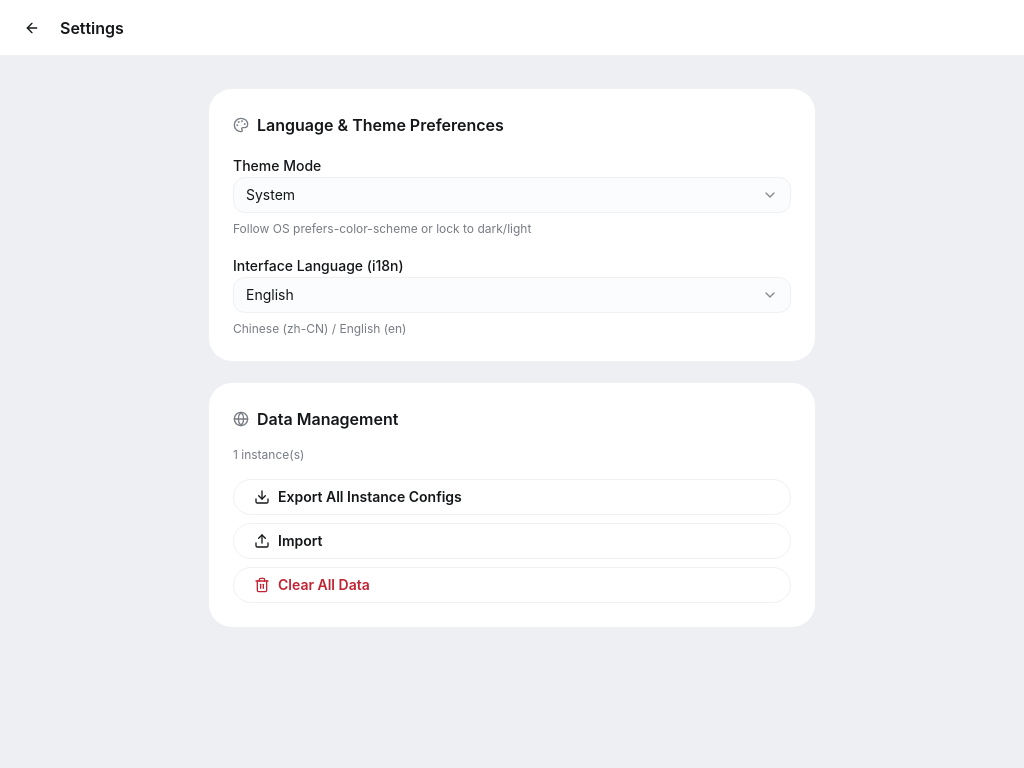
Test: GlobalSettingsPage clear-all confirm › confirm clears the store and closes
The image size is (1024, 768).
Click the button "Clear All Data". click: (324,584)
box: [233, 567, 791, 603]
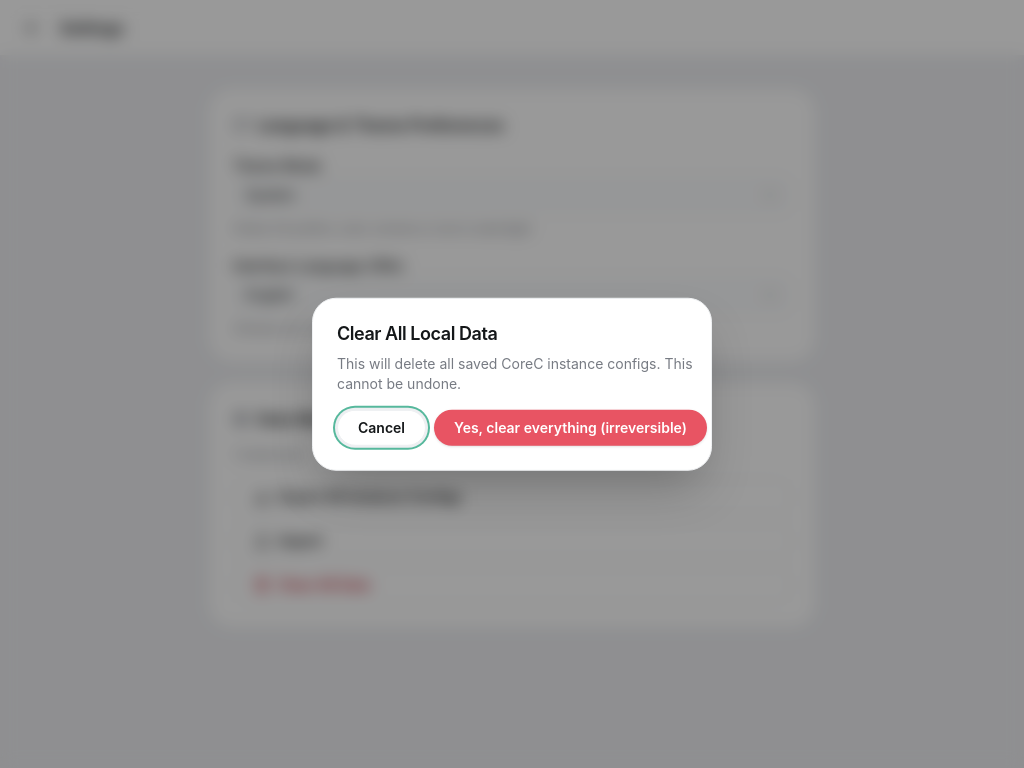
Click the button "Yes, clear everything (irreversible)". click: (570,427)
box: [434, 409, 707, 445]
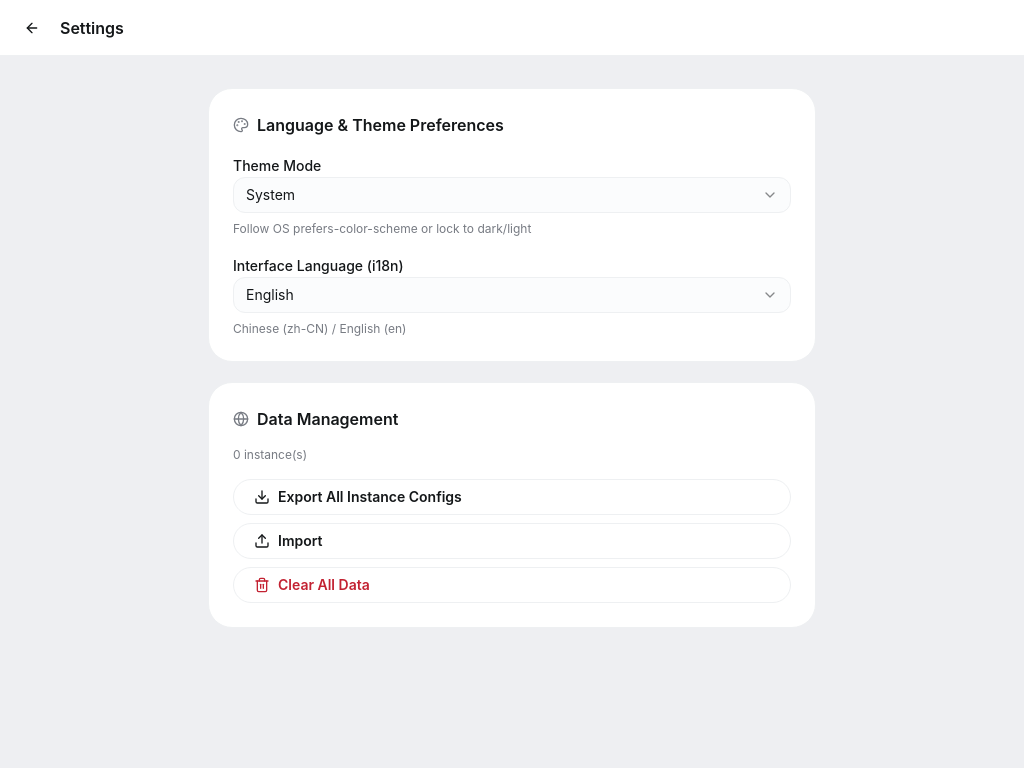
Result: the dialog is gone
